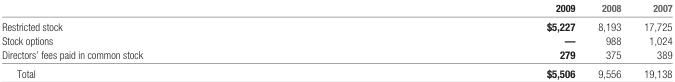table: (1, 1, 671, 79)
table column: (1, 1, 344, 79), (344, 1, 585, 79), (585, 1, 631, 79), (631, 1, 671, 79)
table column header: (1, 1, 671, 16)
table row: (1, 16, 671, 33), (1, 46, 671, 63), (1, 63, 671, 79), (1, 1, 671, 16), (1, 33, 671, 46)
